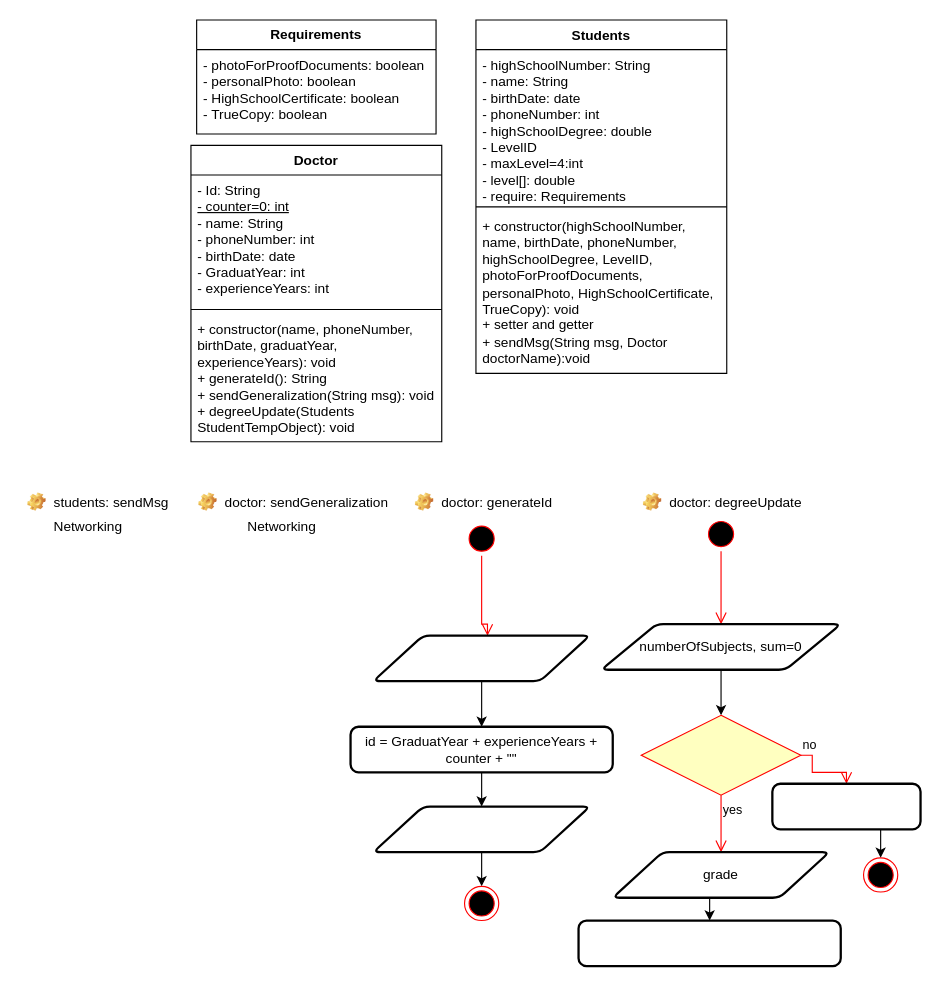
Some shapes in this 941 by 987 pixel diagram are drawn without their labels. Each missing label, with the centre of its shape:
"i<=numberOfSubjects" belongs at (x=720, y=754).
"sum+=grade" belongs at (x=709, y=943).
"tempId" belongs at (x=481, y=829).
"tempId, counter++" belongs at (x=481, y=658).
